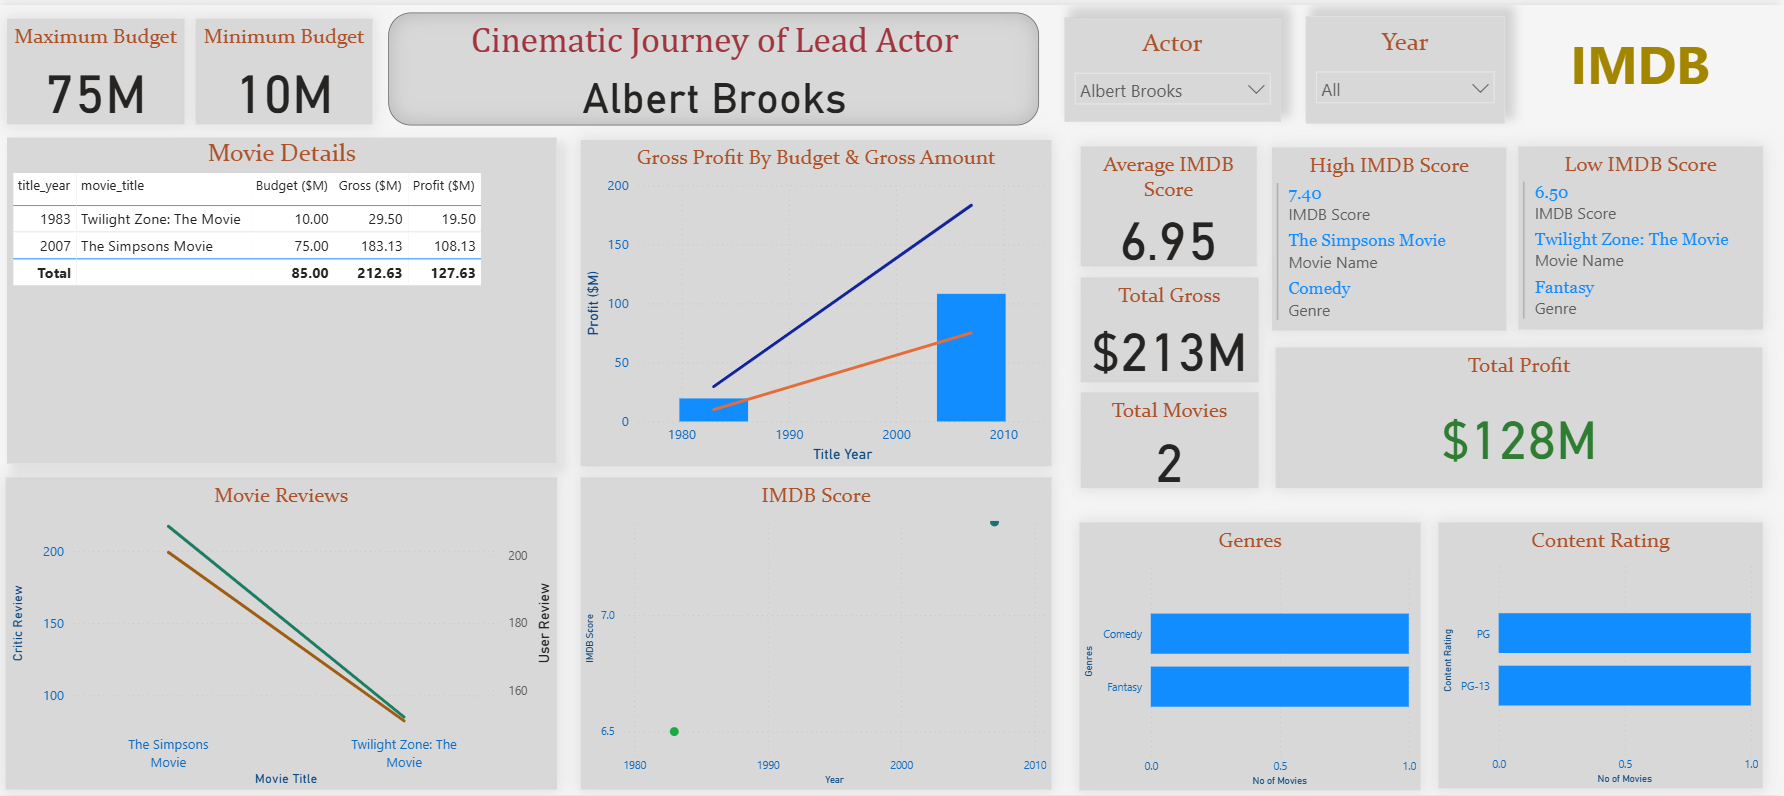

Layout of this report page (visuals, bound fields, positions):
{"tool":"powerbi","page":{"name":"Actor","canvas":[1810,800],"ordinal":0},"visuals":[{"type":"slicer","title":"Actor ","fields":{"Values":["Dim Actors_Name.Actor Name"]},"box":[10.1,8.7,218.9,105.8],"z":0},{"type":"lineStackedColumnComboChart","title":"Gross Profit By Budget & Gross Amount","fields":{"Category":["Fact.title_year"],"Series":["Dim Directors_Name.Director Name"],"Y2":["Sum(Fact.gross)","Sum(Fact.budget)"],"Y":["Sum(Fact.Gross Profit)"]},"box":[738.3,121.7,475.7,329.9],"z":1000},{"type":"tableEx","title":"Movie Details","fields":{"Values":["Fact.title_year","Fact.movie_title","Sum(Fact.duration)","Dim Language.Language","Dim Country.Country","Dim Content_Rating.Content Rating","Dim Genres.Genres"]},"box":[9.6,116.9,717.5,320.3],"z":2000},{"type":"lineChart","title":"IMDB Score","fields":{"Category":["Fact.title_year"],"Y":["Sum(Fact.imdb_score)"],"Series":["Fact.movie_title"]},"box":[738.3,478.9,475.7,315.5],"z":3000},{"type":"barChart","title":"Genres","fields":{"Category":["Dim Genres.Genres"],"Y":["CountNonNull(Fact.title_year)"]},"box":[1228.4,120.1,299.5,329.9],"z":4000},{"type":"barChart","title":"Content Rating","fields":{"Category":["Dim Content_Rating.Content Rating"],"Y":["CountNonNull(Fact.title_year)"]},"box":[1228.4,478.9,299.5,315.5],"z":5000},{"type":"lineChart","title":"Movie Reviews","fields":{"Category":["Fact.movie_title"],"Y":["Sum(Review and Likes.num_critic_for_reviews)"],"Y2":["Sum(Review and Likes.num_user_for_reviews)"]},"box":[9.4,443.8,717.2,350.2],"z":6000},{"type":"card","title":"Maximum Budget","fields":{"Values":["Dim Actors_Name.Max_Budget"]},"box":[1540.7,539.2,247.8,107.3],"z":7000},{"type":"card","title":"Minimum Budget","fields":{"Values":["Dim Actors_Name.Min_Budget"]},"box":[1540.7,674,247.8,120.3],"z":8000},{"type":"multiRowCard","title":"High IMDB Score","fields":{"Values":["Fact.HR_Movie","Fact.HR_Movie_Name","Fact.HR_Movie_Genre"]},"box":[1540.7,120.3,249,189.9],"z":9000},{"type":"multiRowCard","title":"Low IMDB Score","fields":{"Values":["Fact.LR_Movie","Fact.LR_Movie_Name","Fact.LR_Movie_Genre"]},"box":[1540.7,331.9,247.8,185.5],"z":10000},{"type":"card","title":"Cinematic Journey of Actor","fields":{"Values":["Min(Dim Actors_Name.Actor Name)"]},"box":[683.9,0,594.2,116.9],"z":11000},{"type":"slicer","title":"Year","fields":{"Values":["Fact.title_year"]},"box":[243.5,5.8,398.6,108.7],"z":12000},{"type":"textbox","box":[1378.4,18.8,249.3,81.2],"z":13000}]}

Visuals, with their boxes in screenshot pixels (x1, y1, x2, y2), scaled from the page's 1810x800 canvas onto the 1784x796 screenshot:
"Actor " slicer: pyautogui.locateOnScreen(10, 9, 226, 114)
"Gross Profit By Budget & Gross Amount" lineStackedColumnComboChart: pyautogui.locateOnScreen(728, 121, 1197, 449)
"Movie Details" tableEx: pyautogui.locateOnScreen(9, 116, 717, 435)
"IMDB Score" lineChart: pyautogui.locateOnScreen(728, 477, 1197, 790)
"Genres" barChart: pyautogui.locateOnScreen(1211, 119, 1506, 448)
"Content Rating" barChart: pyautogui.locateOnScreen(1211, 477, 1506, 790)
"Movie Reviews" lineChart: pyautogui.locateOnScreen(9, 442, 716, 790)
"Maximum Budget" card: pyautogui.locateOnScreen(1519, 537, 1763, 643)
"Minimum Budget" card: pyautogui.locateOnScreen(1519, 671, 1763, 790)
"High IMDB Score" multiRowCard: pyautogui.locateOnScreen(1519, 120, 1764, 309)
"Low IMDB Score" multiRowCard: pyautogui.locateOnScreen(1519, 330, 1763, 515)
"Cinematic Journey of Actor" card: pyautogui.locateOnScreen(674, 0, 1260, 116)
"Year" slicer: pyautogui.locateOnScreen(240, 6, 633, 114)
textbox: pyautogui.locateOnScreen(1359, 19, 1604, 100)
